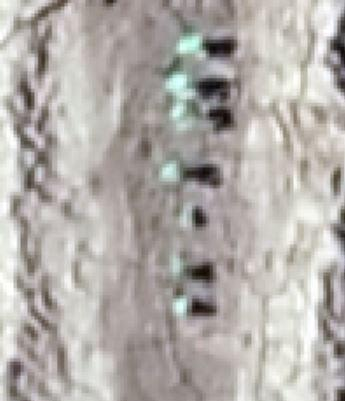cotton: (179, 35, 202, 52), (161, 163, 180, 182), (168, 73, 190, 89), (173, 102, 193, 118), (174, 261, 189, 279), (174, 298, 188, 315)
